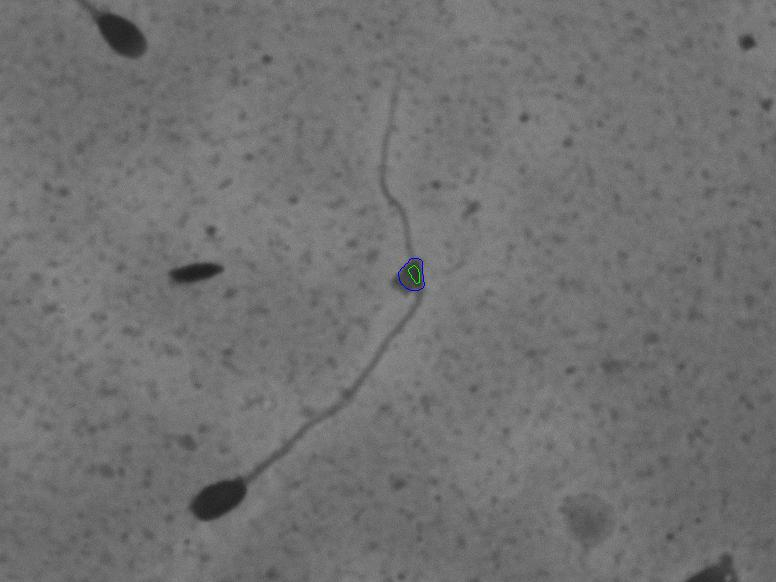Abnormal: (176, 67, 510, 545)
